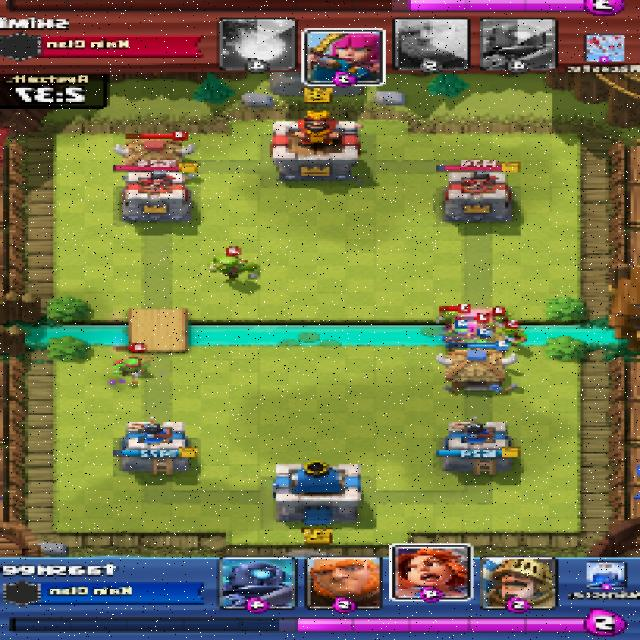Enemy-Goblin: (500, 324, 526, 345), (438, 309, 464, 330), (487, 312, 514, 326)
Enemy-GoblinHut: (112, 137, 200, 171)
Enemy-SpearGoblin: (114, 354, 155, 380)
Player-GoblinCage: (205, 255, 260, 282)
Player-GoblinHut: (434, 349, 519, 393)
Player-SpearGoblin: (437, 328, 474, 350), (465, 338, 497, 350)
